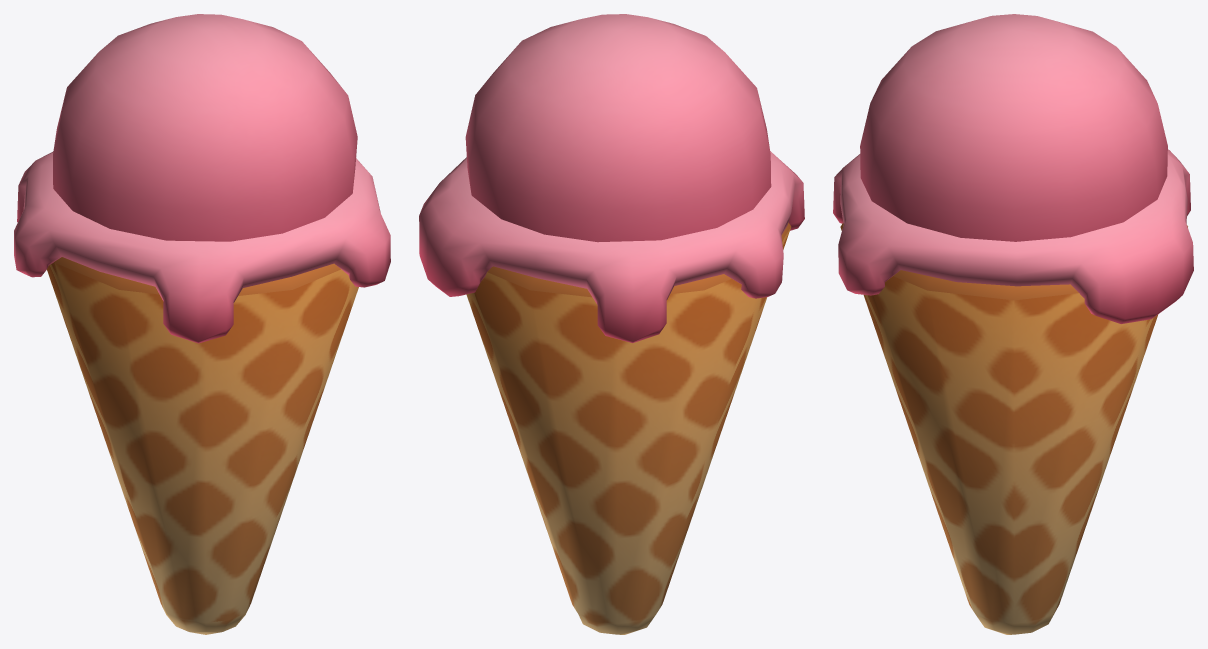
The model's file is m_IceCream01.fbx.
3 renders of one model, left to right at view 1: azimuth 30°, elevation 25°; view 2: azimuth 150°, elevation 25°; view 3: azimuth 270°, elevation 25°, orthographic.
Visible parts, largest first — view 1: m_IceCream01; view 2: m_IceCream01; view 3: m_IceCream01.
Boxes of the visible parts, x1=… form: m_IceCream01: x1=14, y1=14, x2=390, y2=634; m_IceCream01: x1=419, y1=14, x2=804, y2=634; m_IceCream01: x1=833, y1=14, x2=1193, y2=634.
Bounding box in the file's own units: 9.64 × 16.94 × 9.25.
